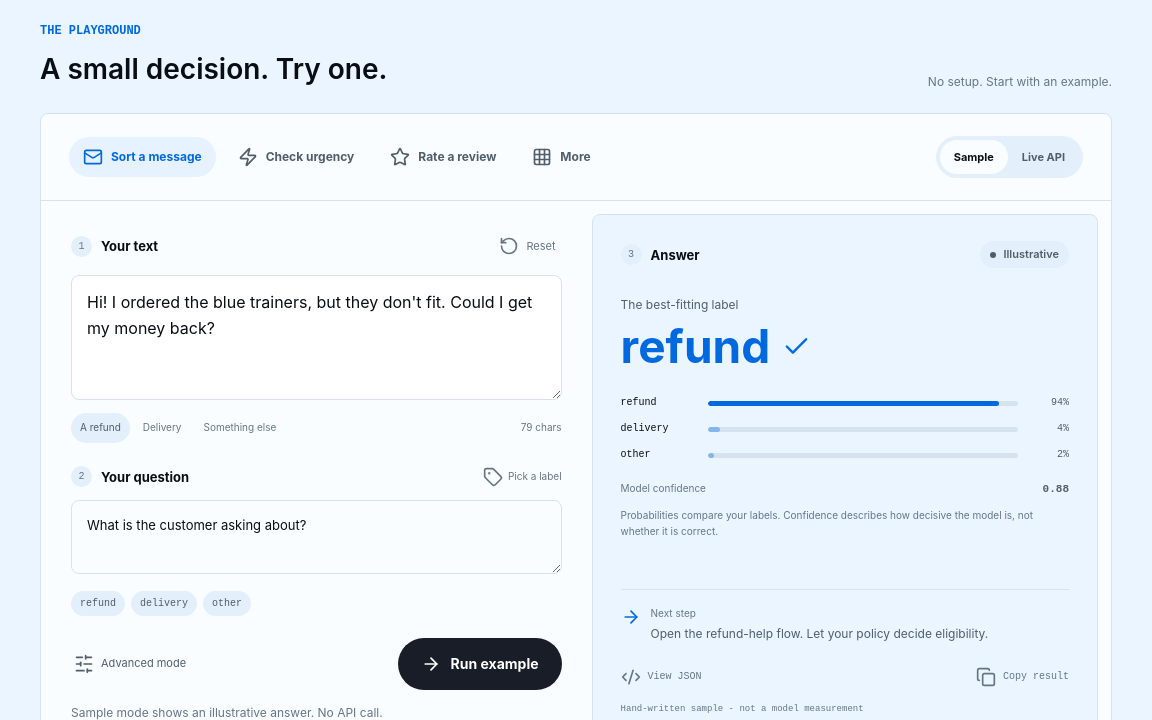
Test: Playground › keeps custom edits honest when the visitor chose sample mode
The width and height of the screenshot is (1152, 720).
Click the button "Sample" at (974, 157), box [940,140,1008,174]
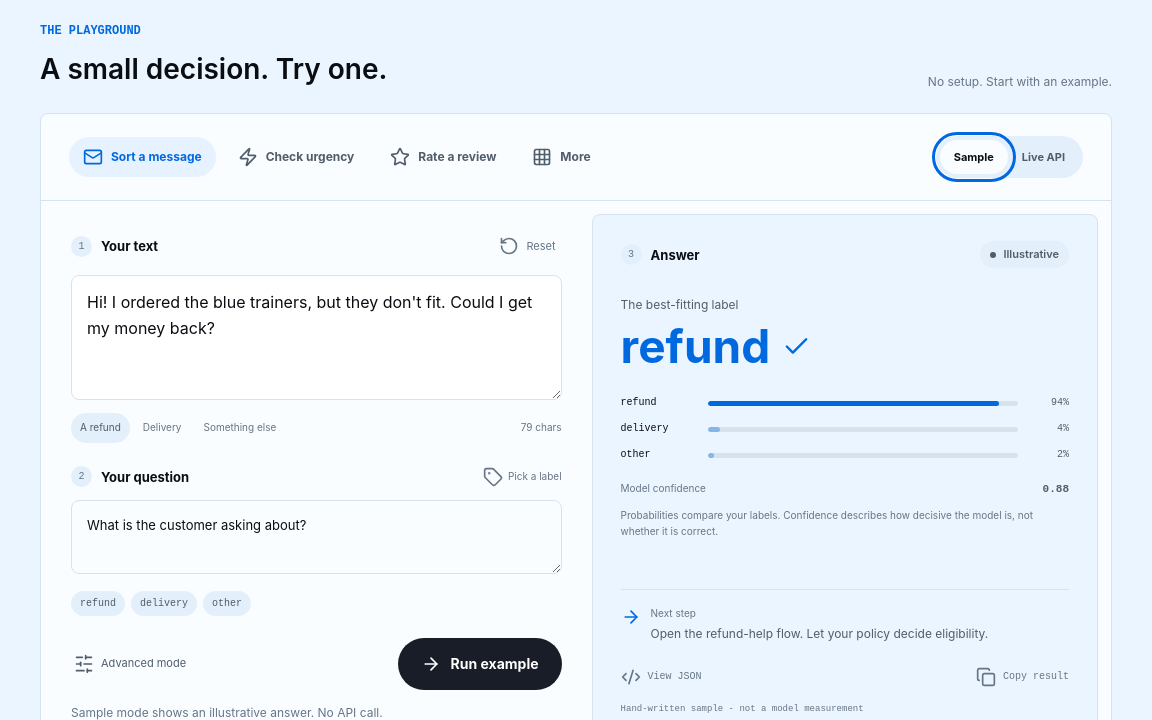
Click the button "Live API" at (1043, 157), box [1008,140,1079,174]
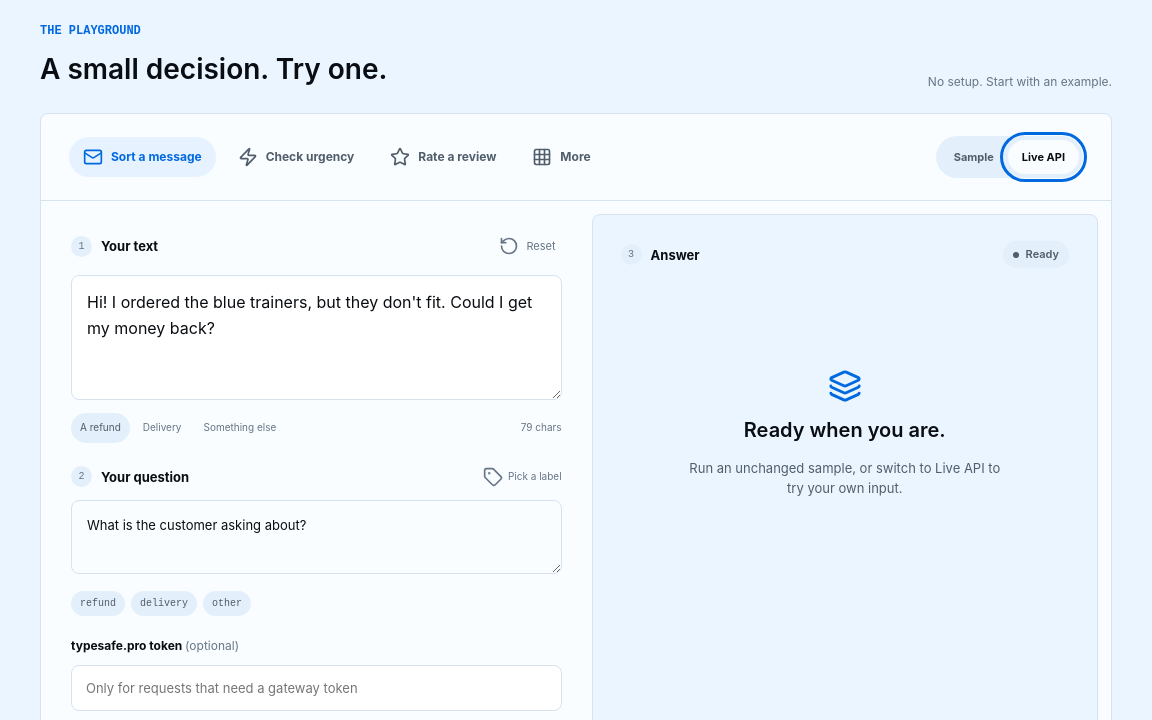
Click the button "Sample" at (974, 157), box [940,140,1008,174]
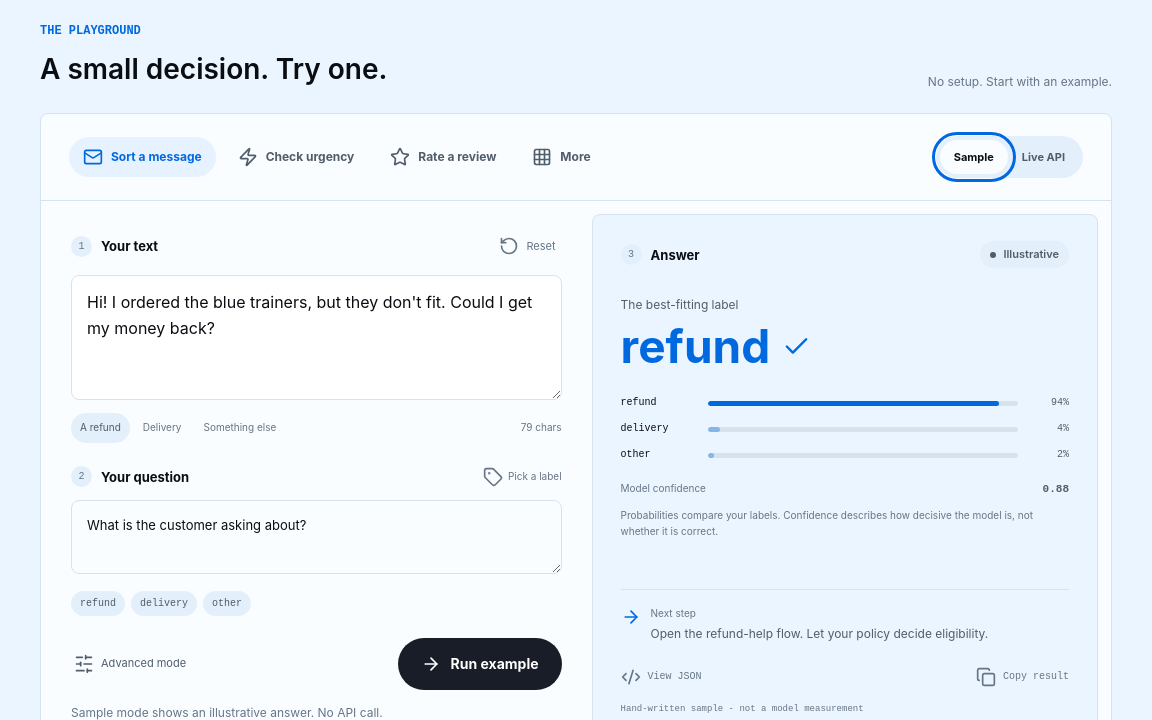
Replace the text in the text box labelled "1 Your text" with "A completely new input." at (316, 338), box [71,275,562,400]
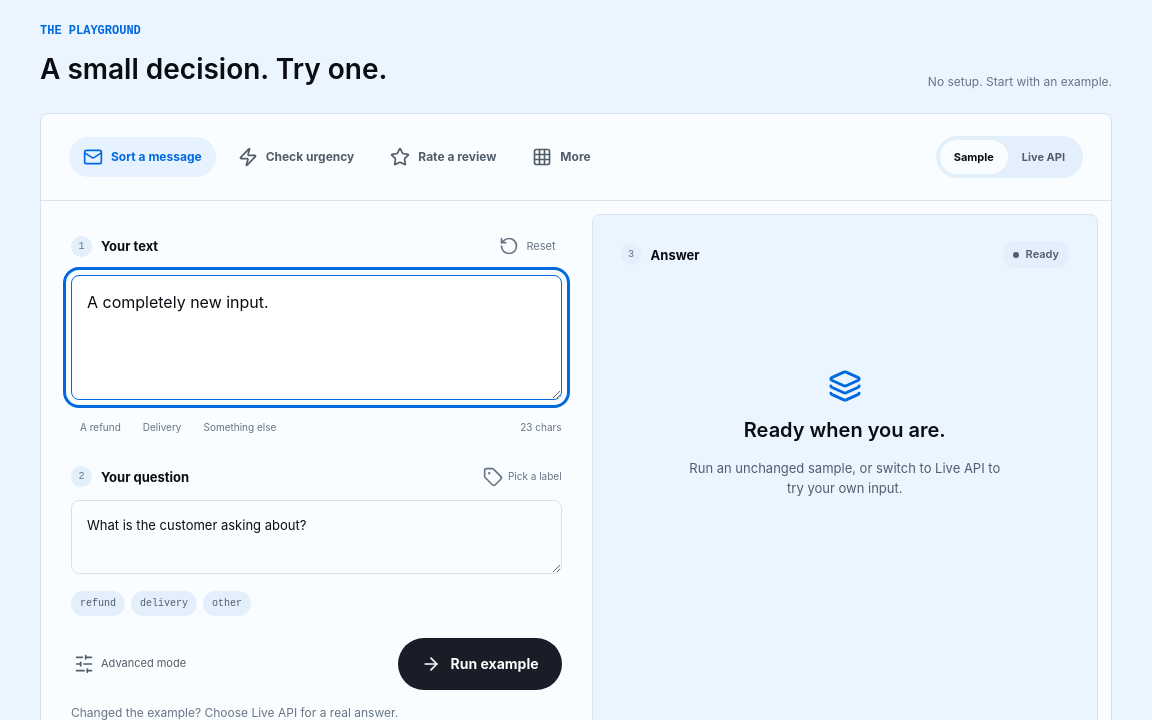
Click the button "Run example" at (480, 664), box [398,638,562,690]
(page scrolled)
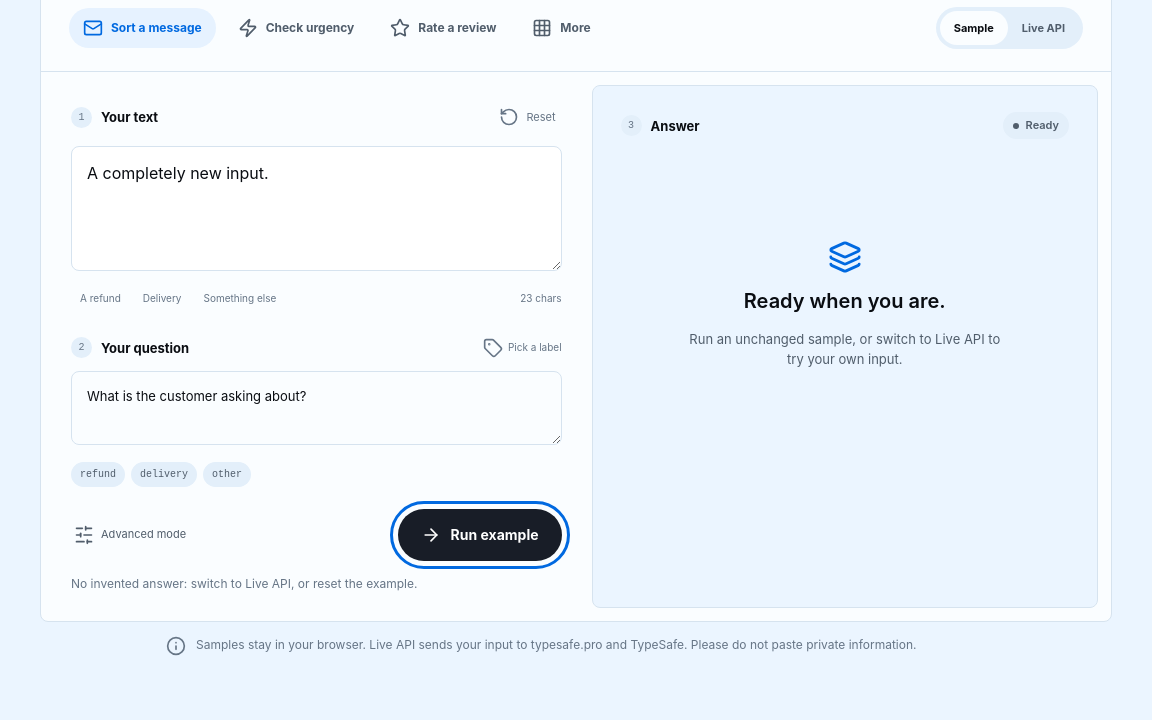
Expected: the text "No invented answer" is shown, [71,576,418,591]
